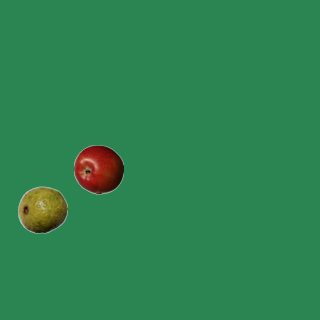Apple Braeburn: (73, 144, 123, 194)
Guava: (17, 184, 67, 234)
